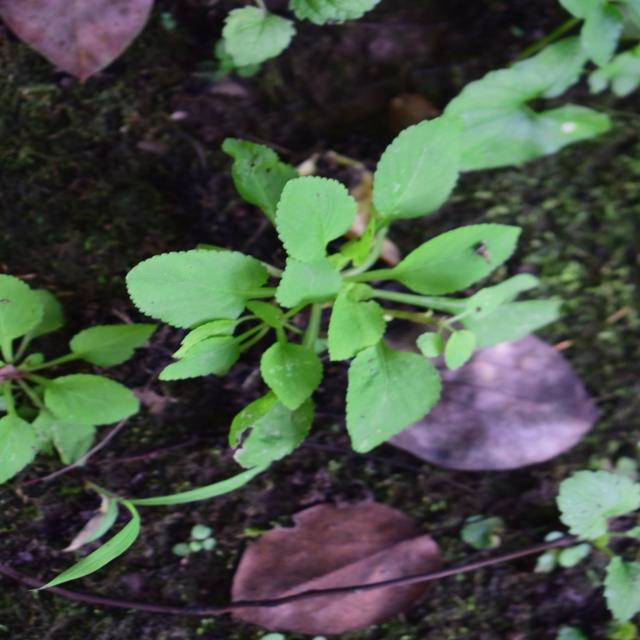Viola: (139, 78, 445, 496)
